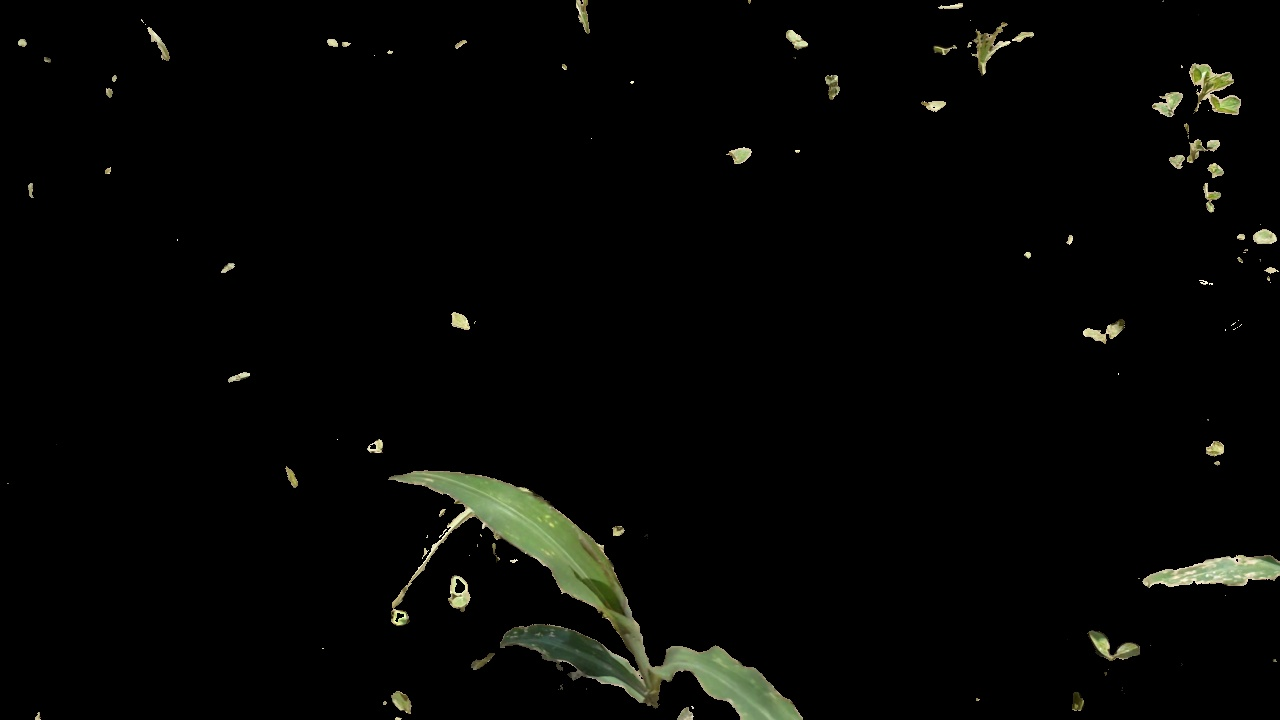crop: (386, 464, 809, 720)
weed: (926, 1, 1039, 77), (1153, 45, 1251, 128), (1168, 148, 1238, 208), (1082, 612, 1158, 662), (1079, 308, 1149, 354), (444, 579, 472, 616)
